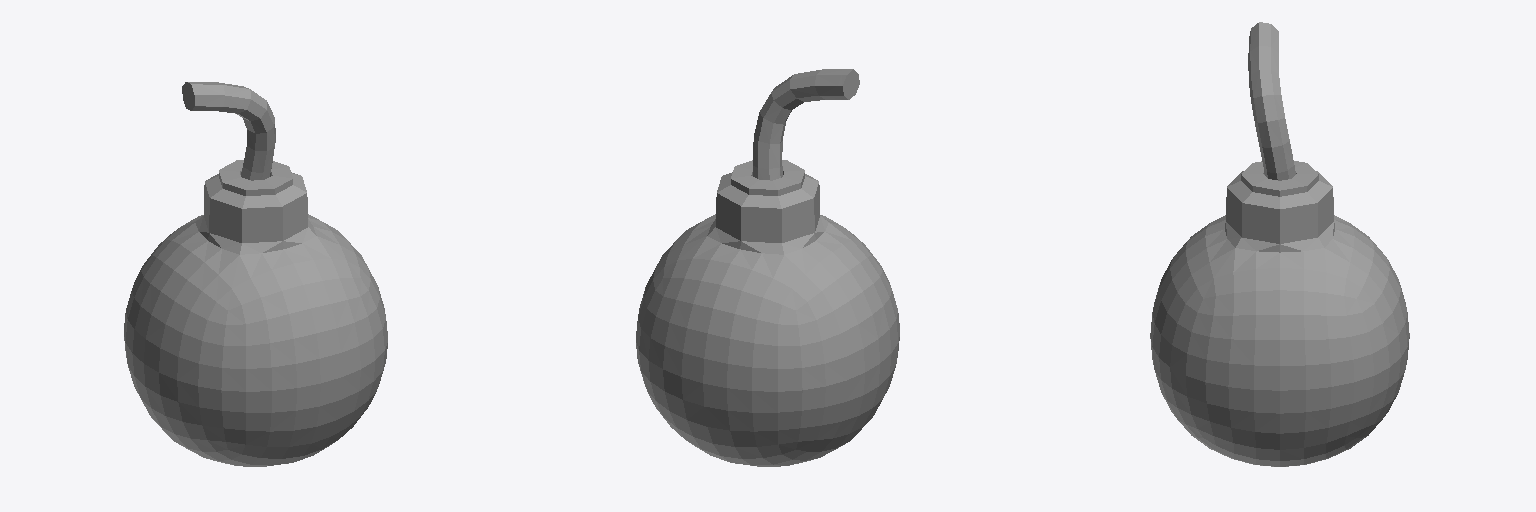
File: bomb2.obj
3 views of the same model, side by side, from view 1: azimuth 30°, elevation 25°; view 2: azimuth 150°, elevation 25°; view 3: azimuth 270°, elevation 25° (orthographic).
Parts seen in each view (by area): view 1: Bomb; view 2: Bomb; view 3: Bomb.
Part boxes in pixels (x1,y1,x2,y2): Bomb: (124,82,387,466); Bomb: (636,69,899,466); Bomb: (1150,22,1409,466).
Size of the model in its own units: 0.5731 by 0.9625 by 0.5731.